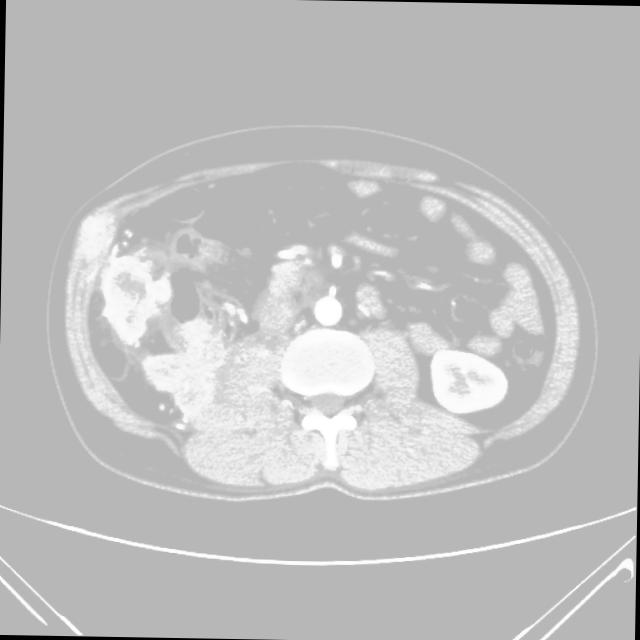TUMOR: (75, 198, 534, 455)
